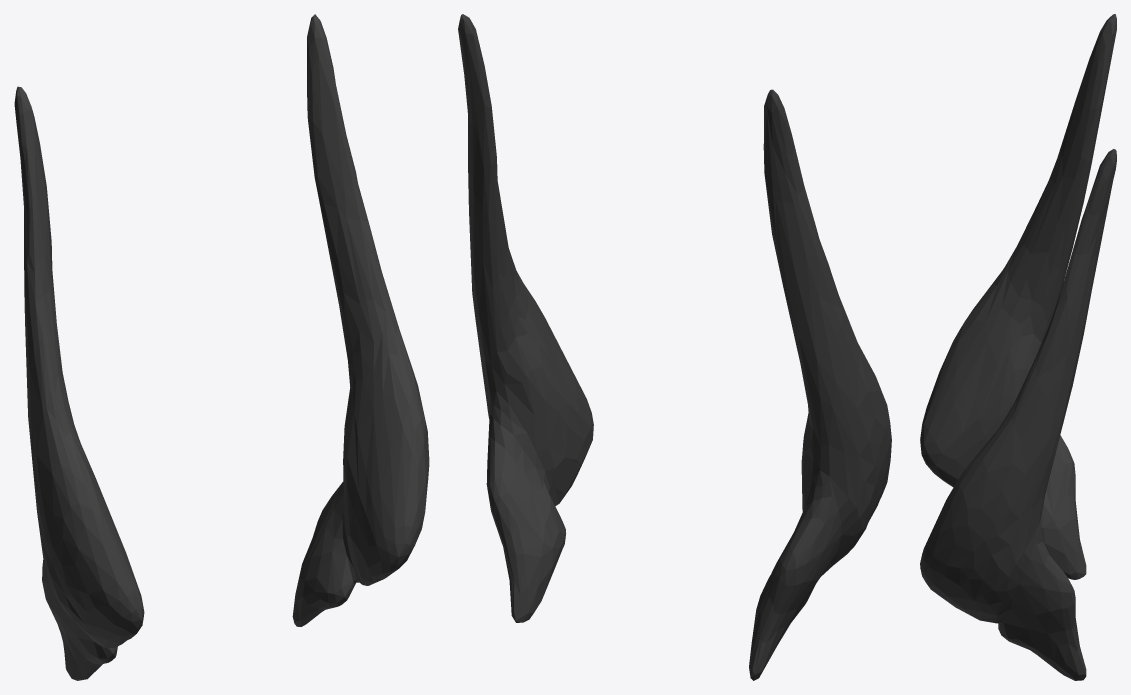
File: m_triceps_brach_long.glb
The picture shows the model from 3 angles, left to right: view 1: azimuth 30°, elevation 25°; view 2: azimuth 150°, elevation 25°; view 3: azimuth 270°, elevation 25°; orthographic projection. The views are drawn at different scales.
Parts seen in each view (by area): view 1: m_triceps_brach_long; view 2: m_triceps_brach_long; view 3: m_triceps_brach_long.
Part boxes in pixels (left/top/right/bottom): m_triceps_brach_long: left=14, top=14, right=429, bottom=680; m_triceps_brach_long: left=458, top=14, right=891, bottom=680; m_triceps_brach_long: left=920, top=14, right=1116, bottom=680.
Size of the model in its own units: 0.00403 by 0.00606 by 0.00197.
Materials: 1 (1 with a texture image).
